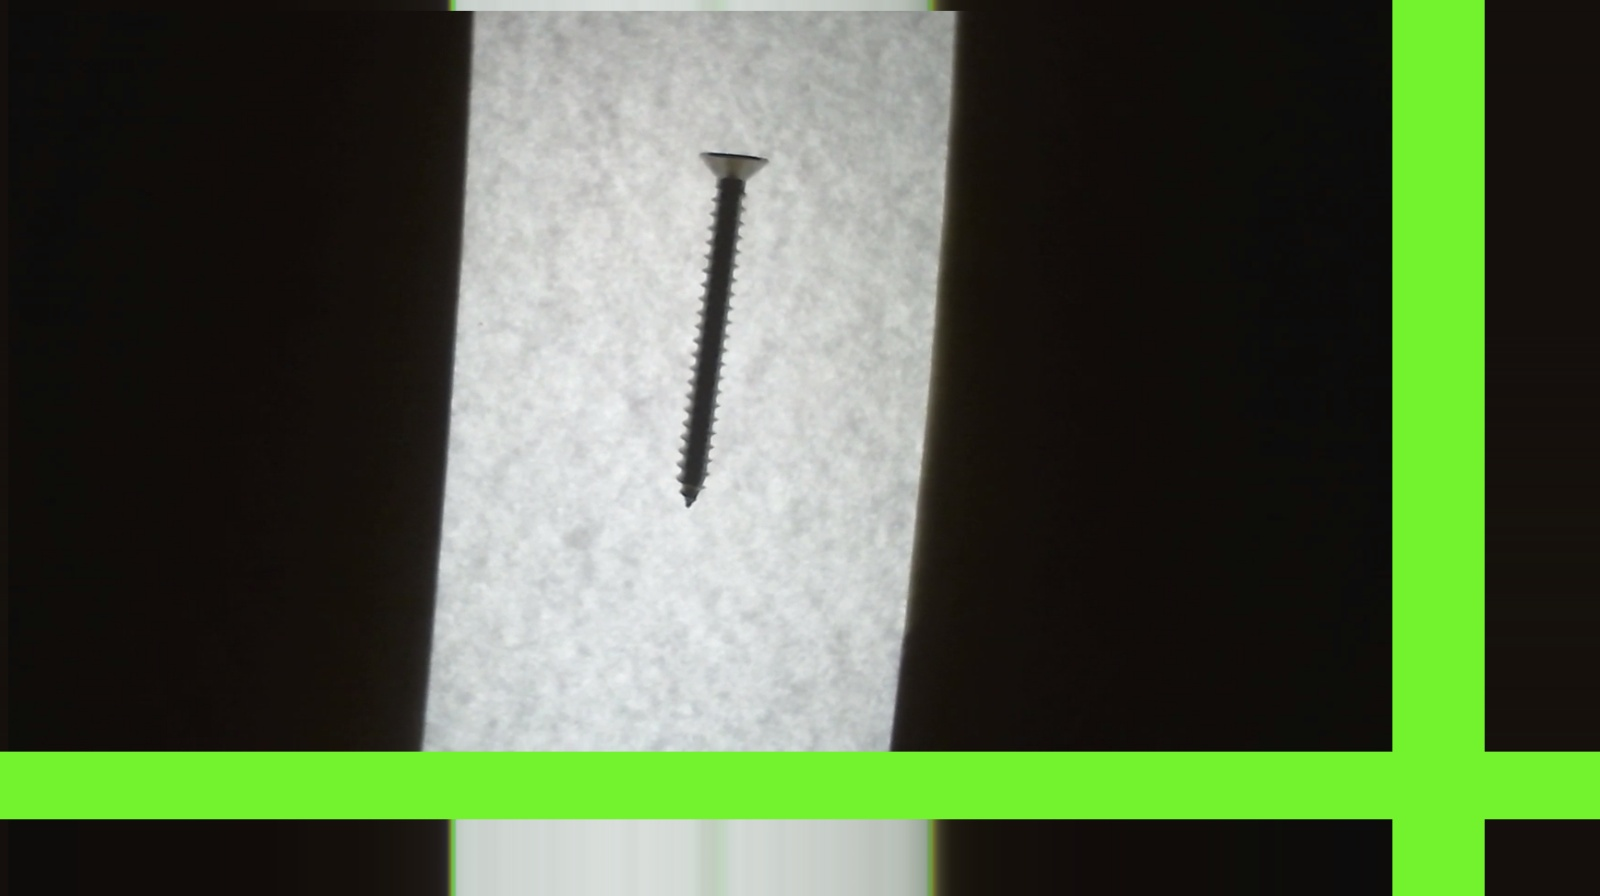S002: (664, 146, 782, 512)
